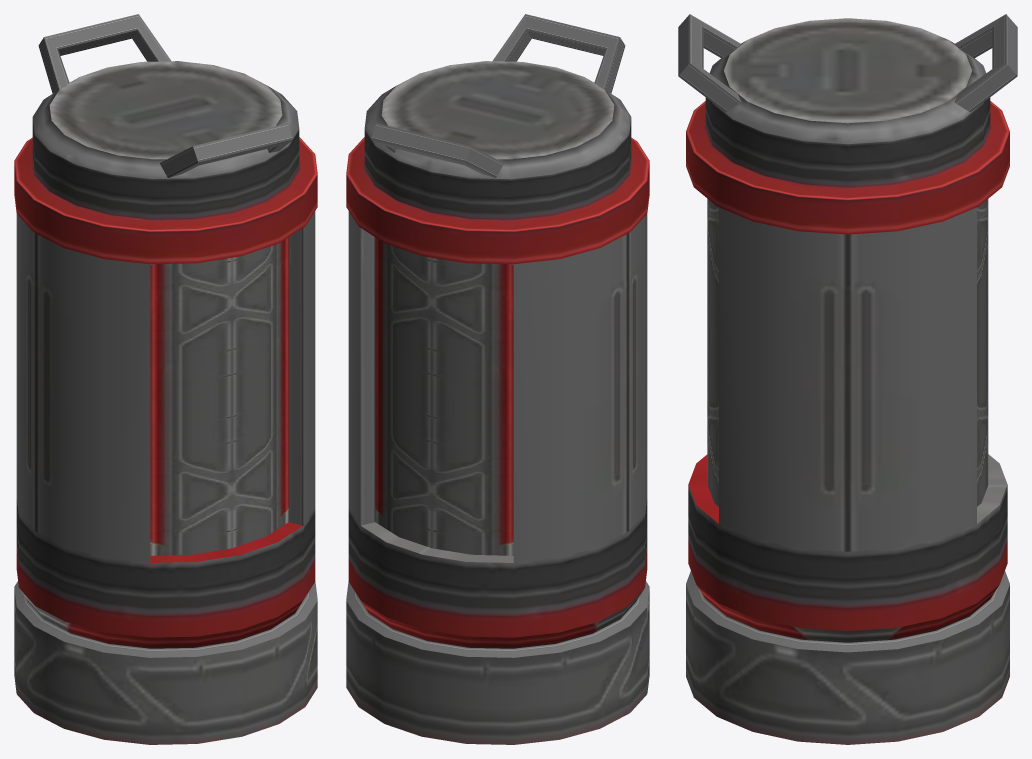
Rendered from fut.glb.
3 views of the same model, side by side, from view 1: azimuth 30°, elevation 25°; view 2: azimuth 150°, elevation 25°; view 3: azimuth 270°, elevation 25° (orthographic). The views are drawn at different scales.
Visible parts, largest first — view 1: Prop_Barrel_Large; view 2: Prop_Barrel_Large; view 3: Prop_Barrel_Large.
Part boxes in pixels (x1,y1,x2,y2): Prop_Barrel_Large: (14,14,317,744); Prop_Barrel_Large: (346,14,649,744); Prop_Barrel_Large: (678,14,1017,744).
Bounding box in the file's own units: 0.5079 × 1.1 × 0.532.
Materials: 2 (2 with a texture image).
